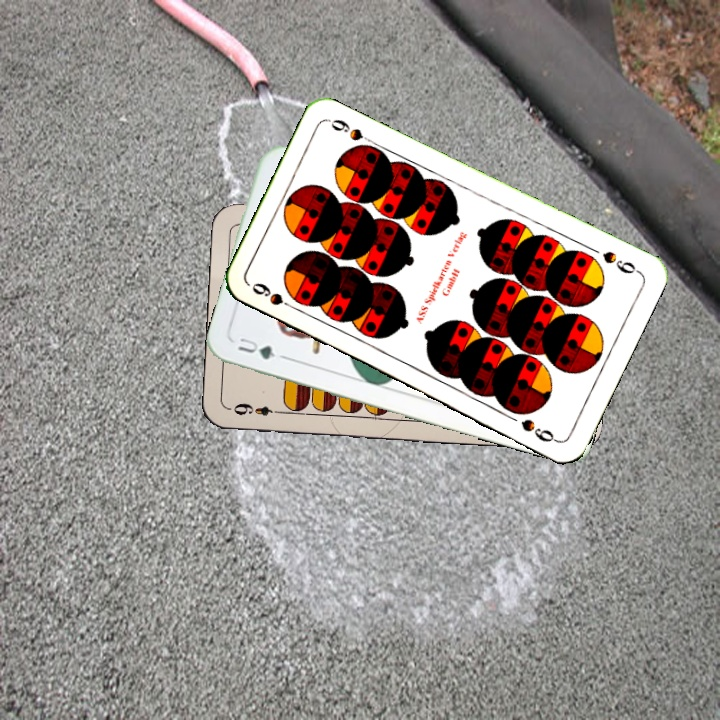E9: (227, 399, 286, 418)
GU: (234, 333, 278, 362)
S9: (247, 278, 302, 314), (598, 247, 643, 277)
